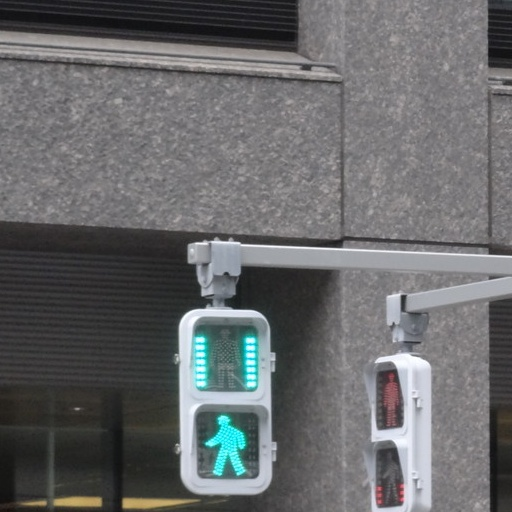Pedestrian_Signal_Blue: (171, 301, 275, 494)
